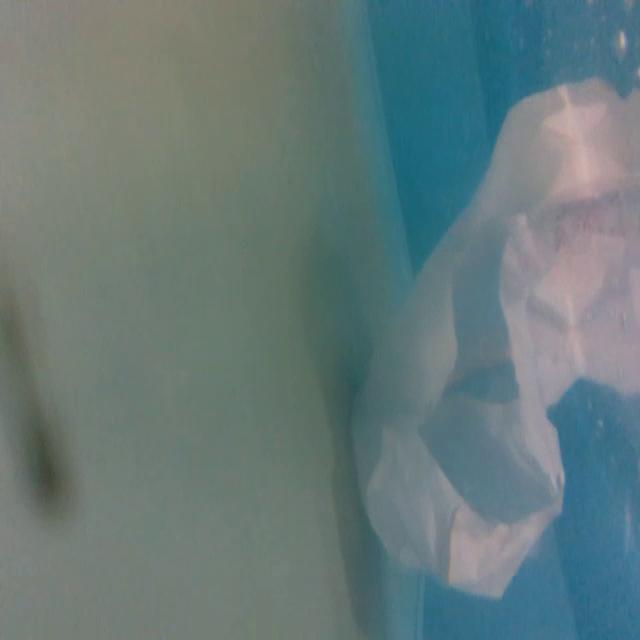plastic bags: (340, 72, 640, 604)
